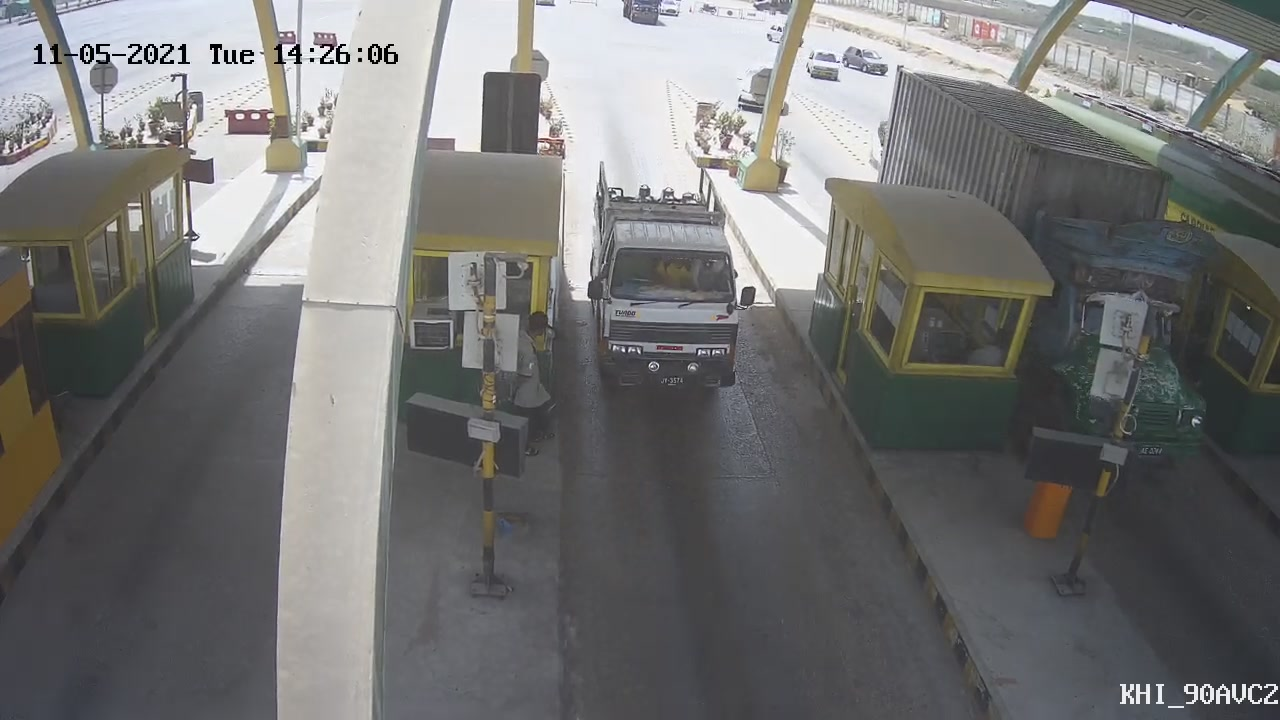F5: (588, 157, 757, 408)
